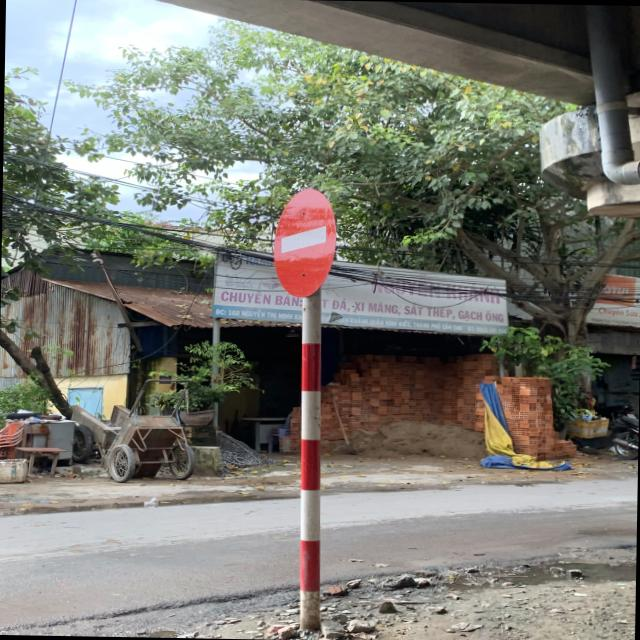Cam_Di_Nguoc_Chieu: (272, 187, 337, 299)
